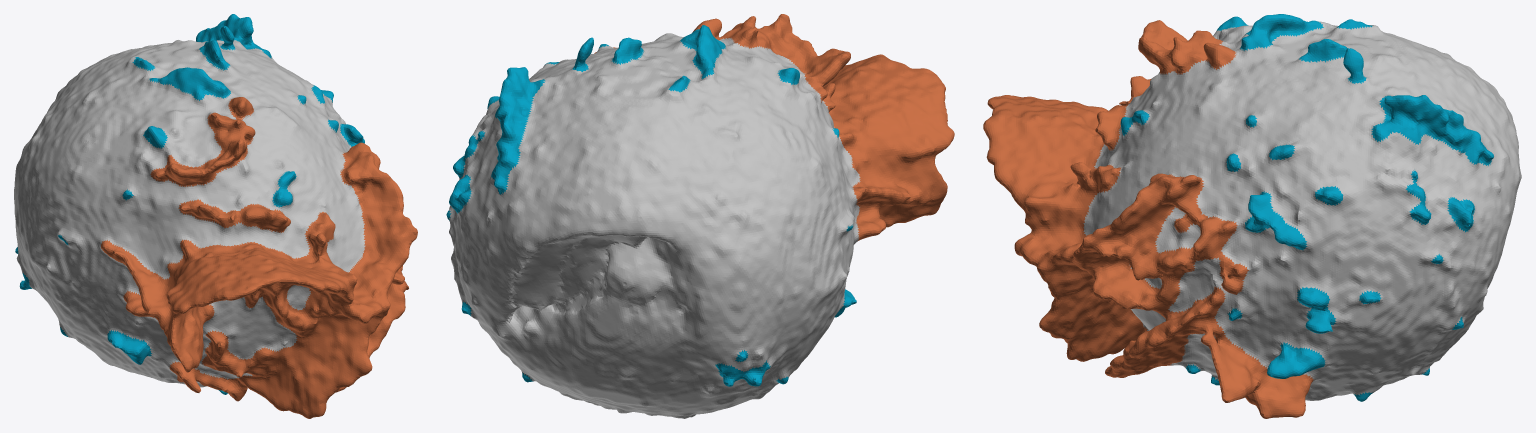
3 renders of one model, left to right at view 1: azimuth 30°, elevation 25°; view 2: azimuth 150°, elevation 25°; view 3: azimuth 270°, elevation 25°, orthographic. The views are drawn at different scales.
Bounding box in the file's own units: 145 × 136 × 183.
